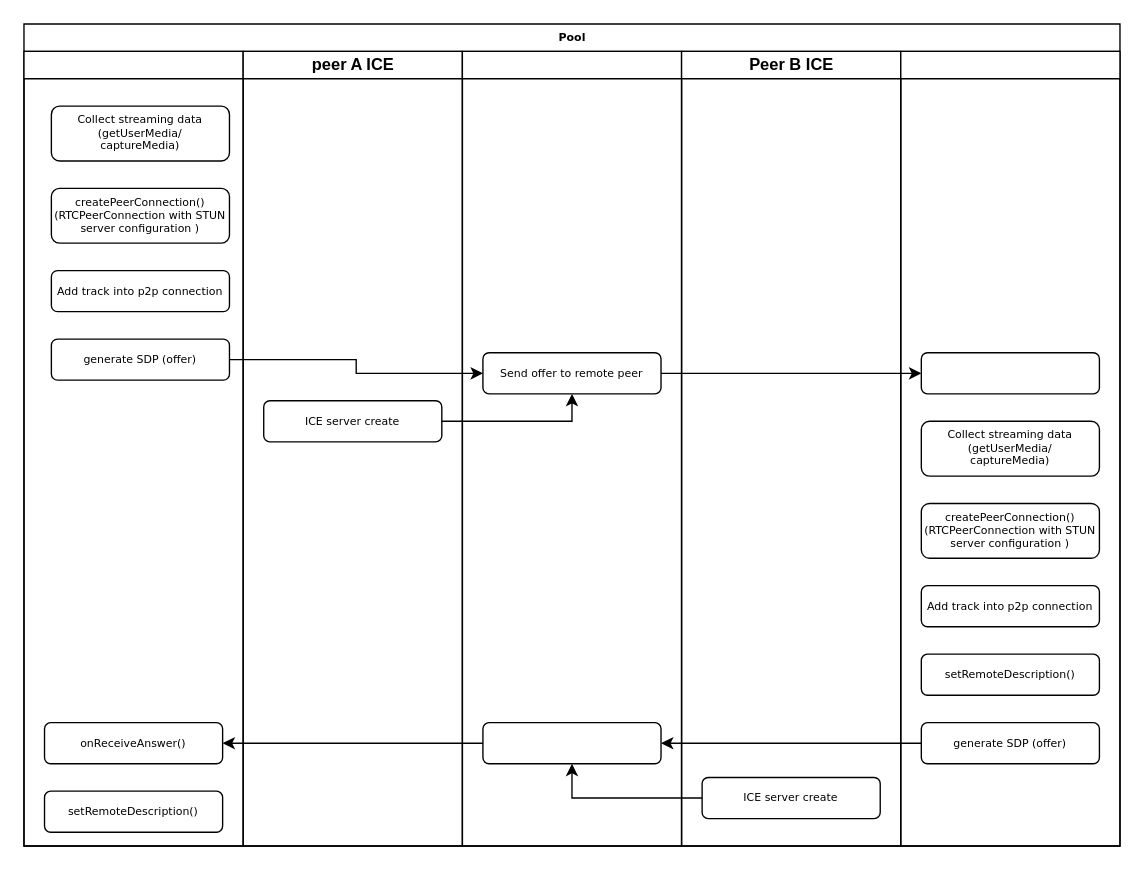
This 1144x870 diagram has some shape labels left out. Each missing label, with the box of its shape:
onReceiveOffer(): (920, 351, 1099, 394)
Peer A: (23, 50, 243, 846)
Peer B: (899, 50, 1120, 846)
sendAnser to Peer A: (482, 721, 661, 764)
Signaling server: (461, 50, 682, 846)
